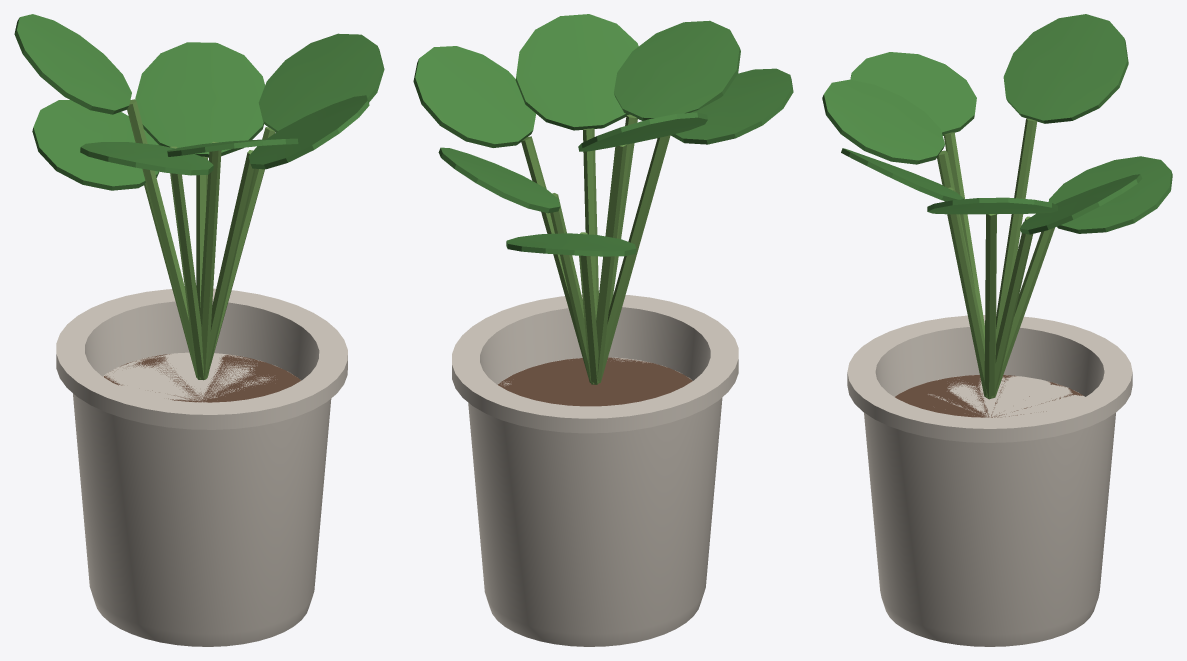
File: small_plant.glb
The picture shows the model from 3 angles, left to right: view 1: azimuth 30°, elevation 25°; view 2: azimuth 150°, elevation 25°; view 3: azimuth 270°, elevation 25°; orthographic projection. The views are drawn at different scales.
Parts seen in each view (by area): view 1: small_plant; view 2: small_plant; view 3: small_plant.
Boxes of the visible parts, box(x1,y1,x2,y2) form: small_plant: box(14, 14, 384, 646); small_plant: box(413, 14, 793, 646); small_plant: box(822, 14, 1172, 646).
Bounding box in the file's own units: 0.15 × 0.25 × 0.15.
